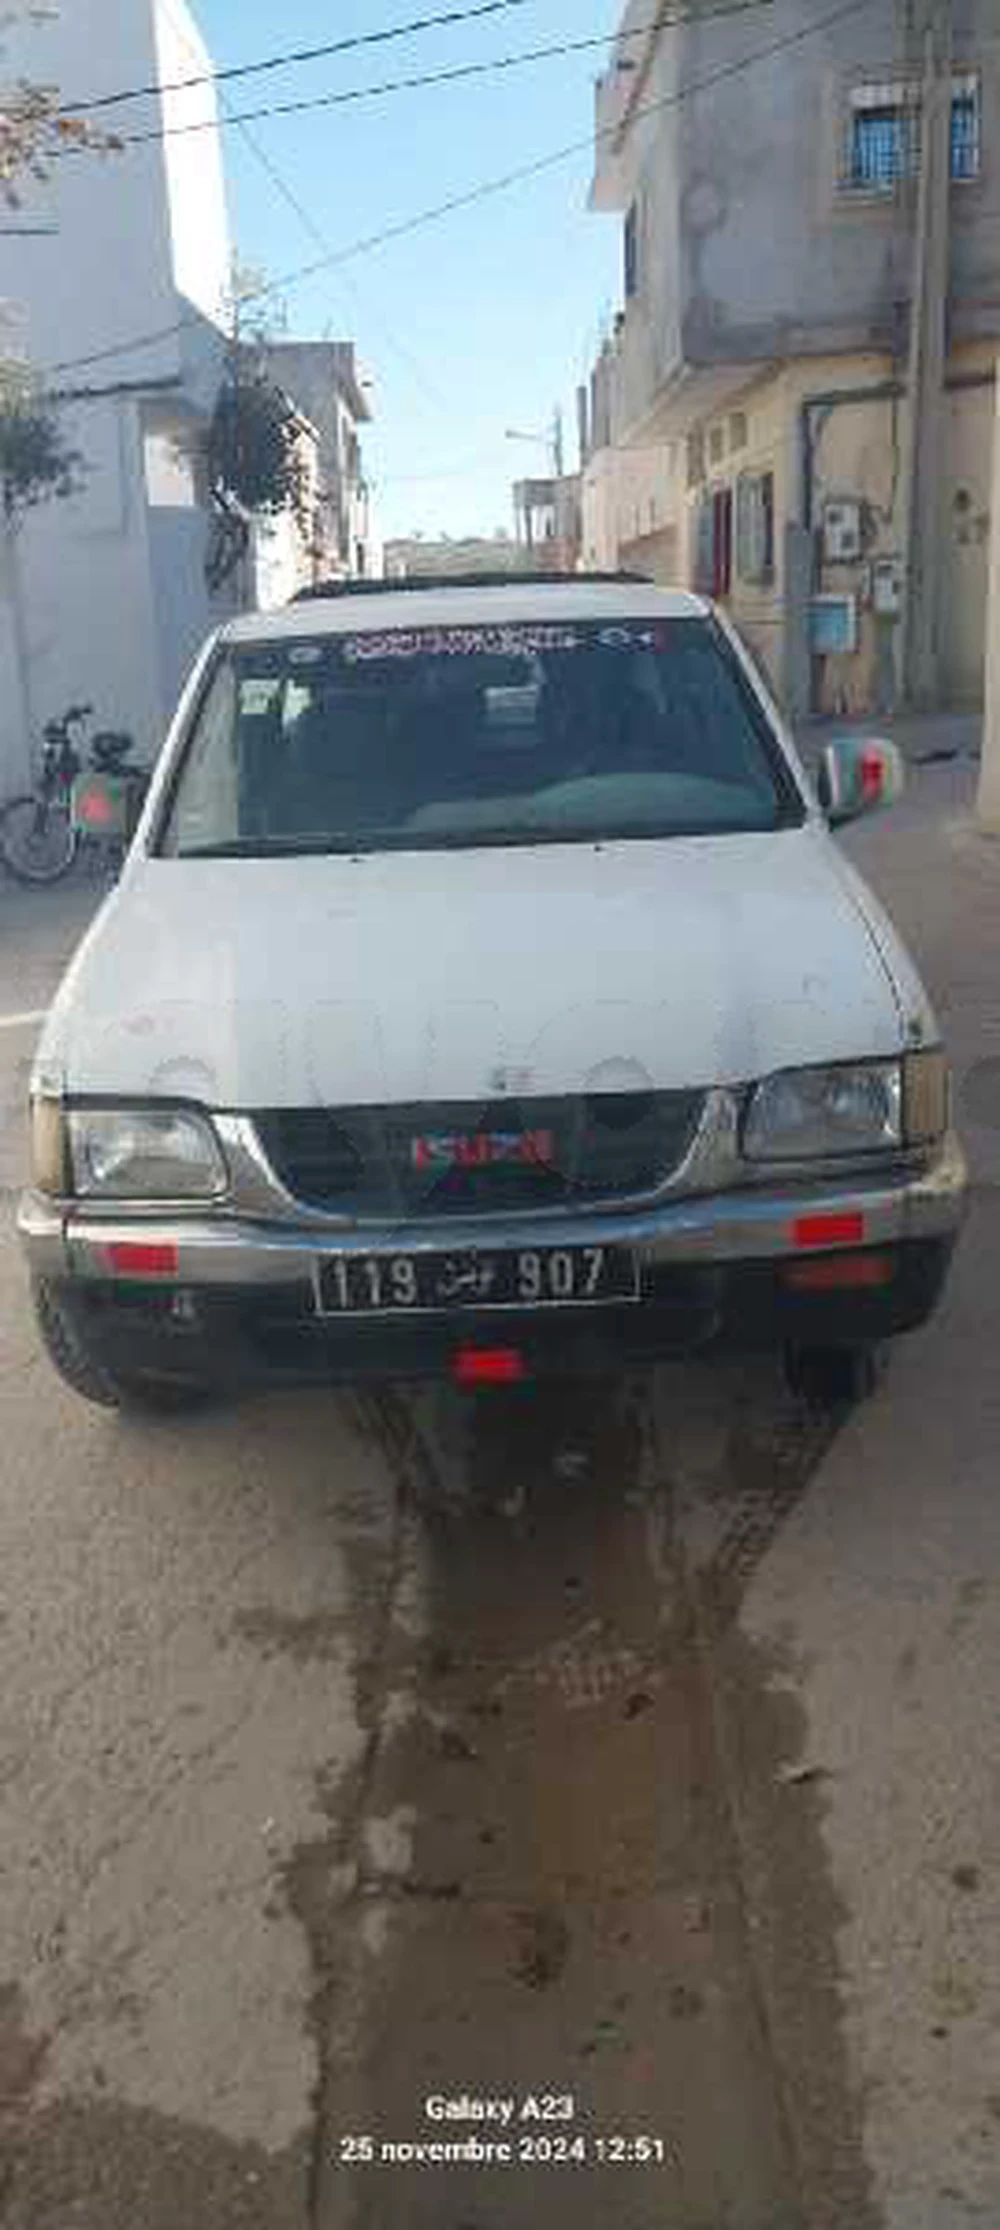isuzu: (27, 572, 977, 1455)
